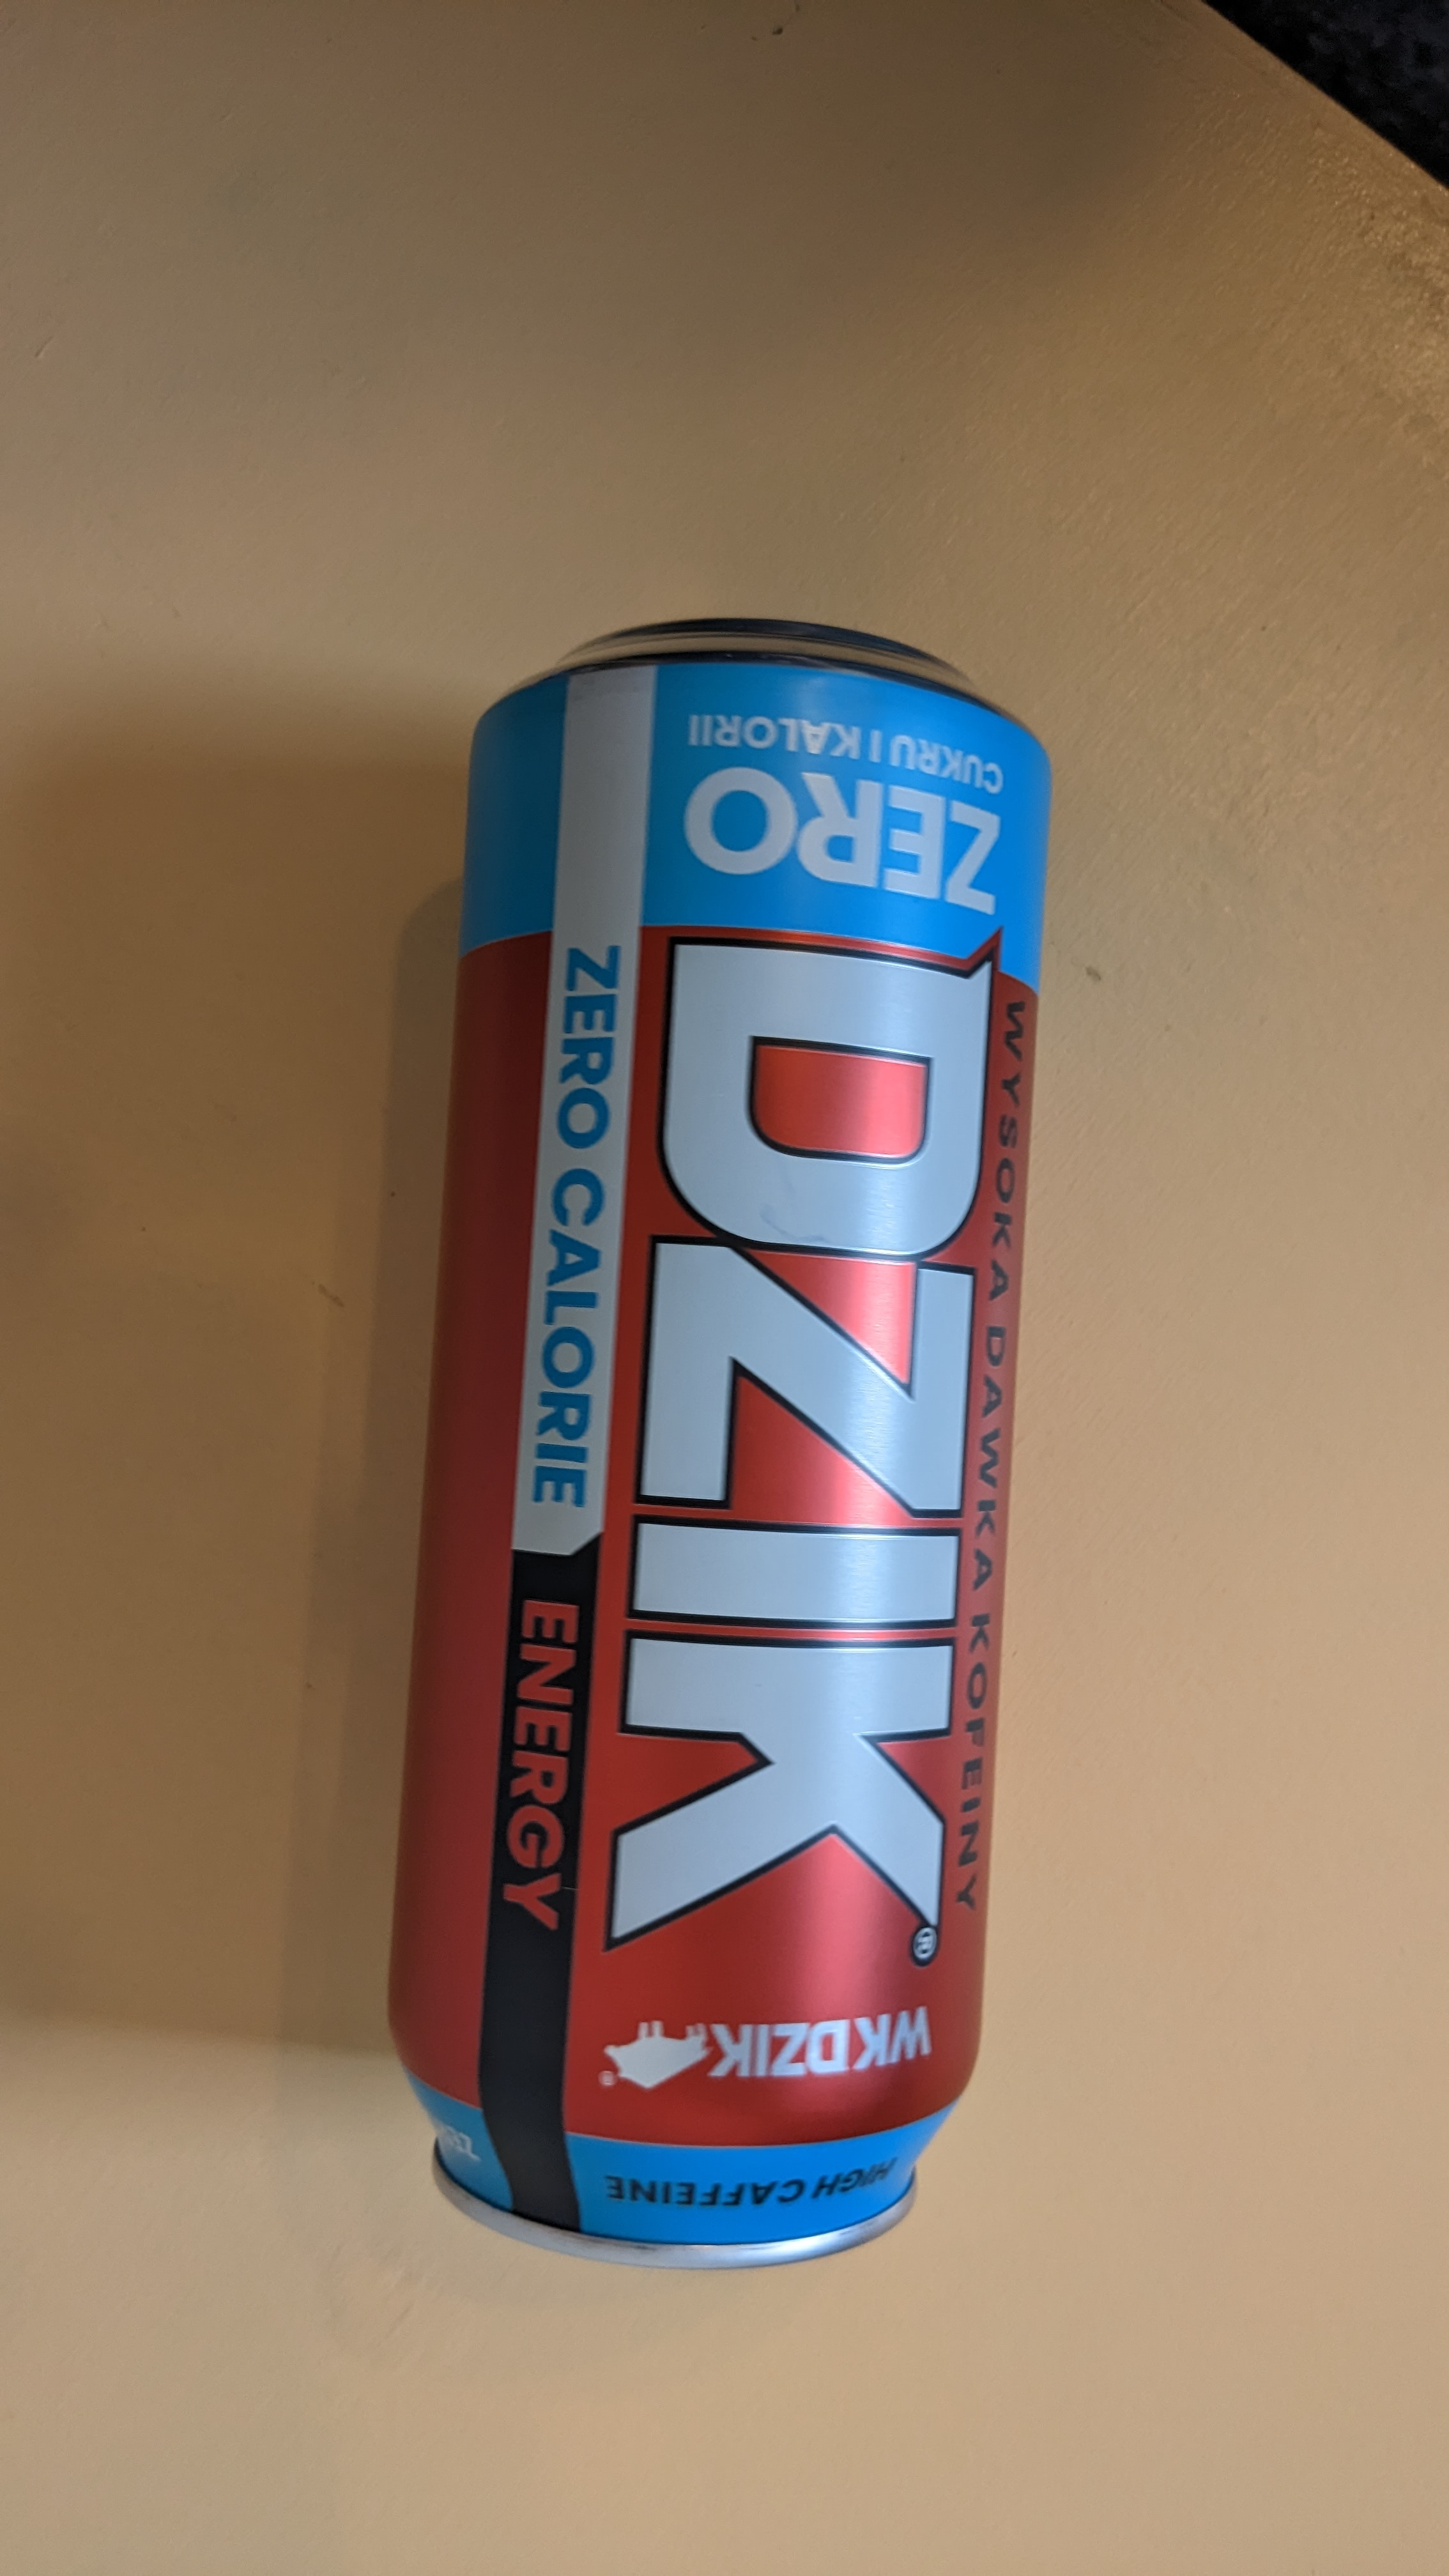dzik: (433, 609, 1005, 2288)
